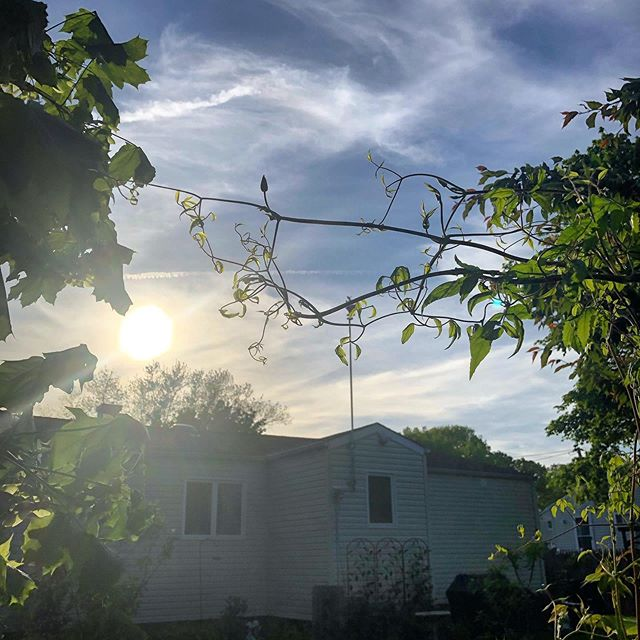building: (123, 409, 532, 630)
sky: (114, 1, 481, 369)
sun: (107, 298, 181, 368)
tree: (192, 110, 640, 473)
